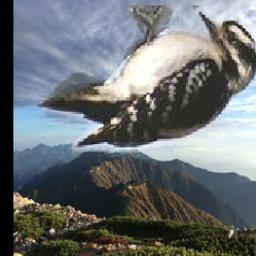Woodpecker: (36, 5, 256, 158)
